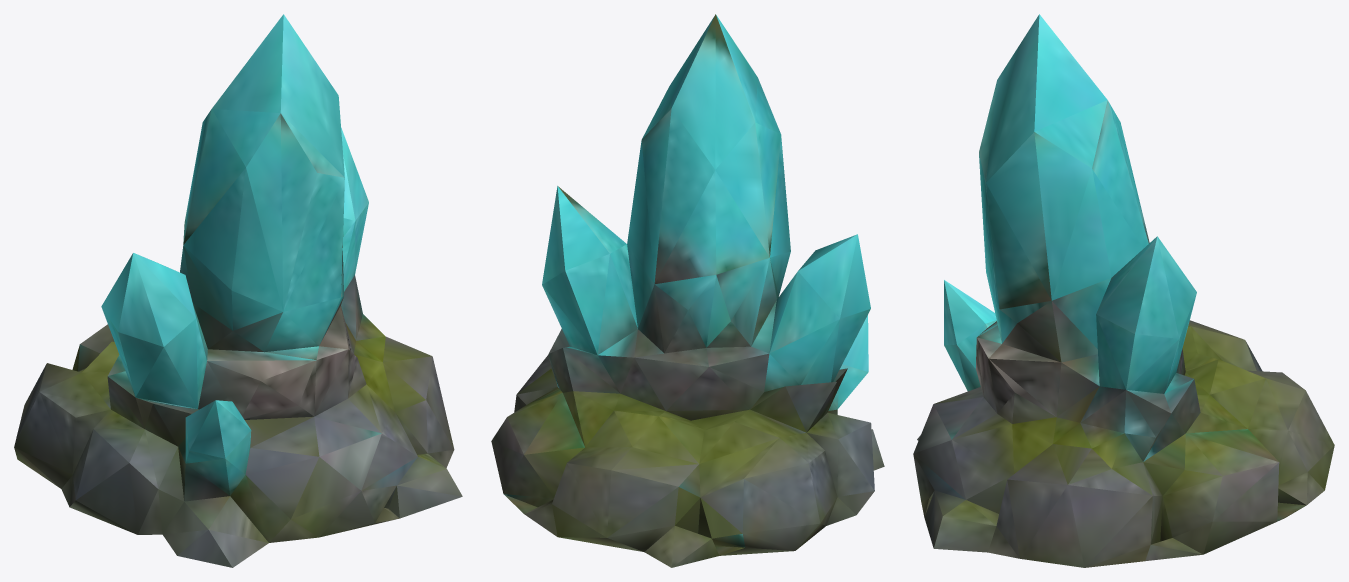
File: cristal_resonante_400.glb
3 views of the same model, side by side, from view 1: azimuth 30°, elevation 25°; view 2: azimuth 150°, elevation 25°; view 3: azimuth 270°, elevation 25° (orthographic). The views are drawn at different scales.
Visible parts, largest first — view 1: cristal_resonante_malla; view 2: cristal_resonante_malla; view 3: cristal_resonante_malla.
Part boxes in pixels (x1,y1,x2,y2): cristal_resonante_malla: [14, 14, 462, 567]; cristal_resonante_malla: [491, 14, 884, 567]; cristal_resonante_malla: [913, 14, 1334, 567].
Bounding box in the file's own units: 0.2864 × 0.35 × 0.2784.
Materials: 1 (1 with a texture image).
